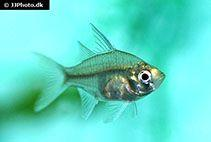Glass Perchlet: (32, 21, 167, 126)
